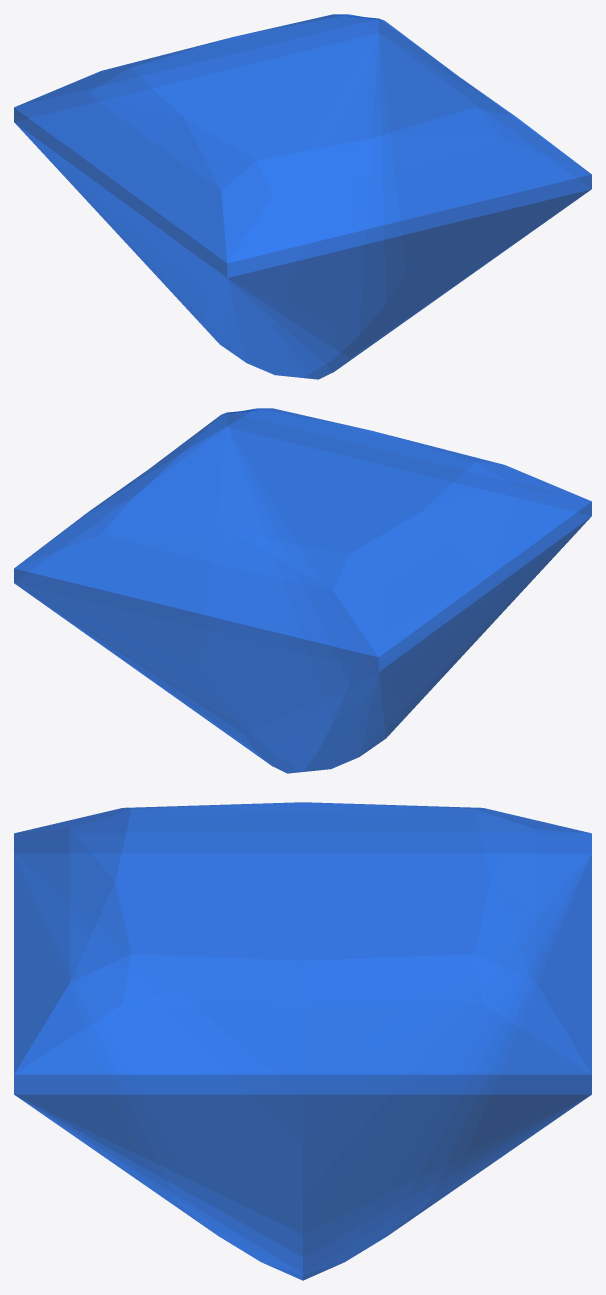
The model's file is princess lazulli.glb.
The picture shows the model from 3 angles, top to bottom: view 1: azimuth 30°, elevation 25°; view 2: azimuth 150°, elevation 25°; view 3: azimuth 270°, elevation 25°; orthographic projection. The views are drawn at different scales.
Parts seen in each view (by area): view 1: Princess; view 2: Princess; view 3: Princess.
Boxes of the visible parts, x1,y1,x2,y2 form: Princess: (14, 14, 591, 379); Princess: (14, 408, 591, 773); Princess: (14, 802, 591, 1280).
Size of the model in its own units: 1.38 by 1.05 by 1.4.
